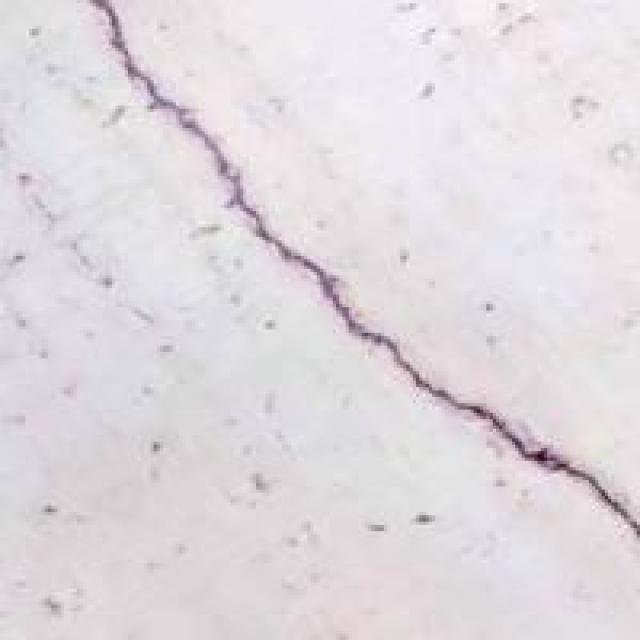crack: (86, 4, 637, 566)
